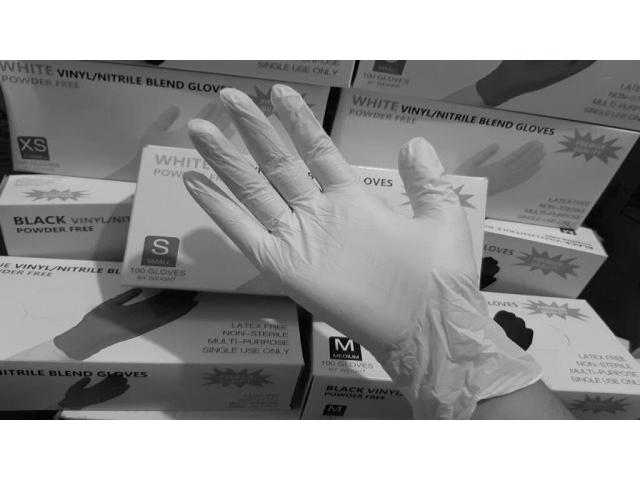gloved: (186, 85, 494, 316)
